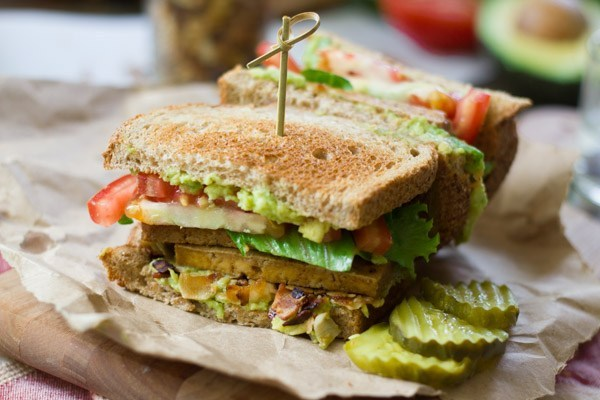sandwich: (86, 87, 489, 342)
